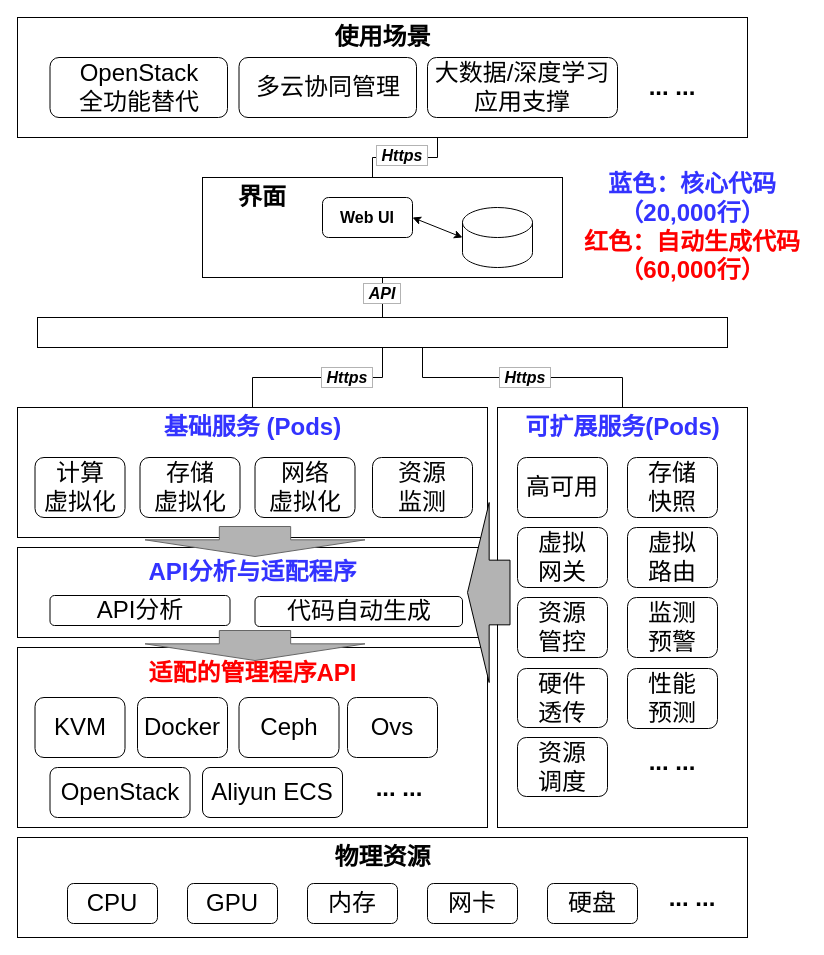
Some shapes in this 824 by 955 pixel diagram are drawn without their labels. Each missing label, with the box of its shape:
Kubernetes异步执行框架 （Etcd消息发布/订阅）: (36, 316, 728, 348)
数据库: (462, 206, 532, 268)
